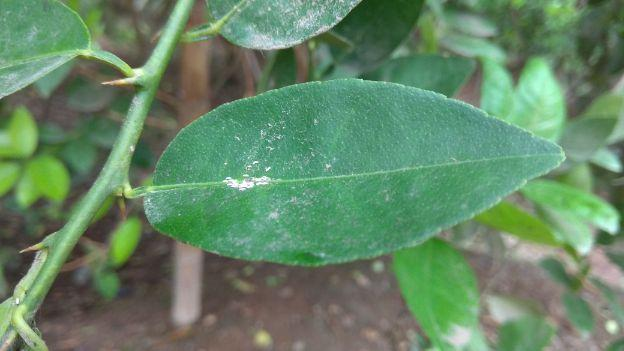Myzus persicae: (222, 175, 270, 190)
